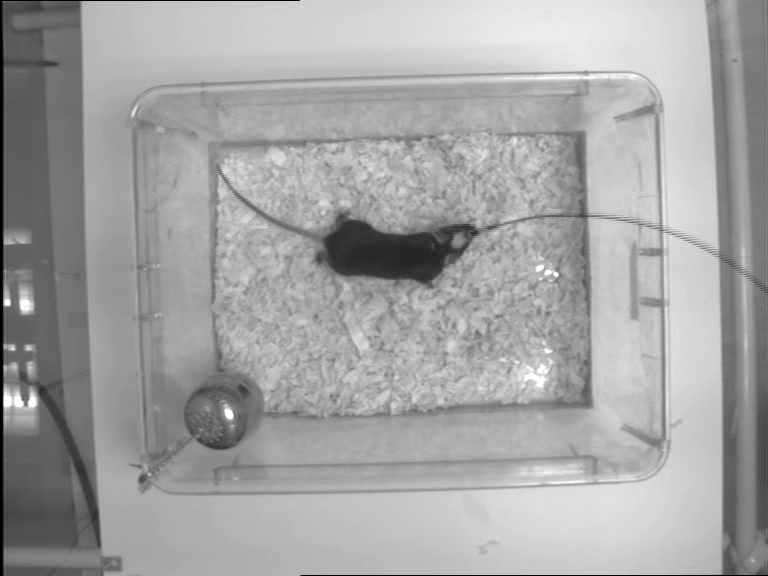mice: (212, 162, 478, 290)
